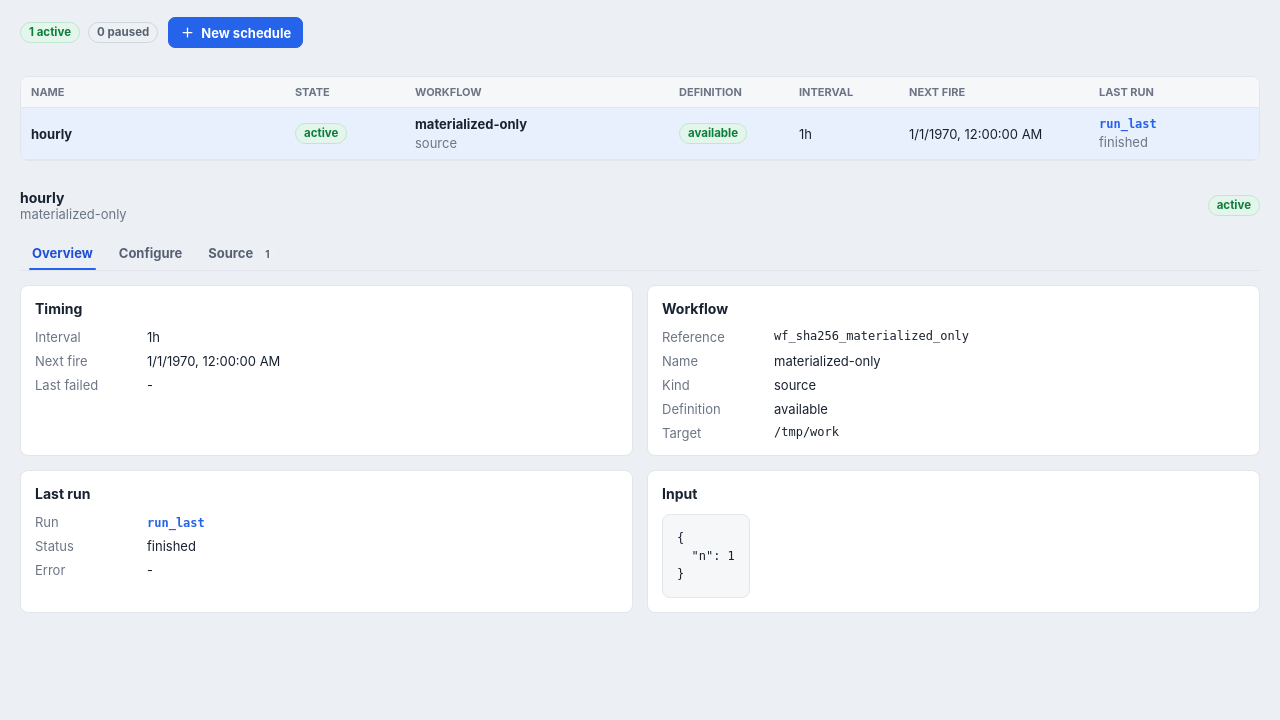
it: SchedulesScreen › requires an explicit workflow choice when a pinned definition has no catalog match
Click the tab "Configure" at (151, 253), box [107,236,194,270]
(page scrolled)
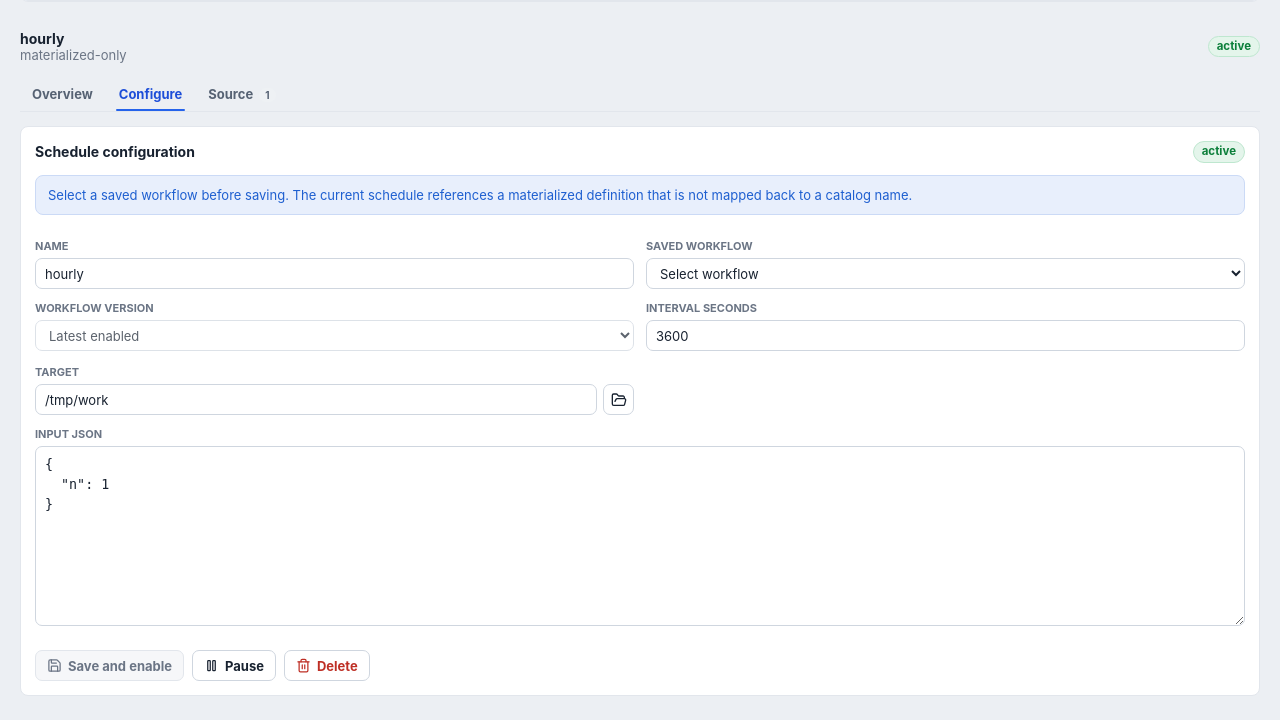
Expected: the dropdown labelled "Saved workflow" shows "Select workflow", [646,258,1245,289]
Expected: the button "Save and enable" is disabled, [35,650,184,681]
